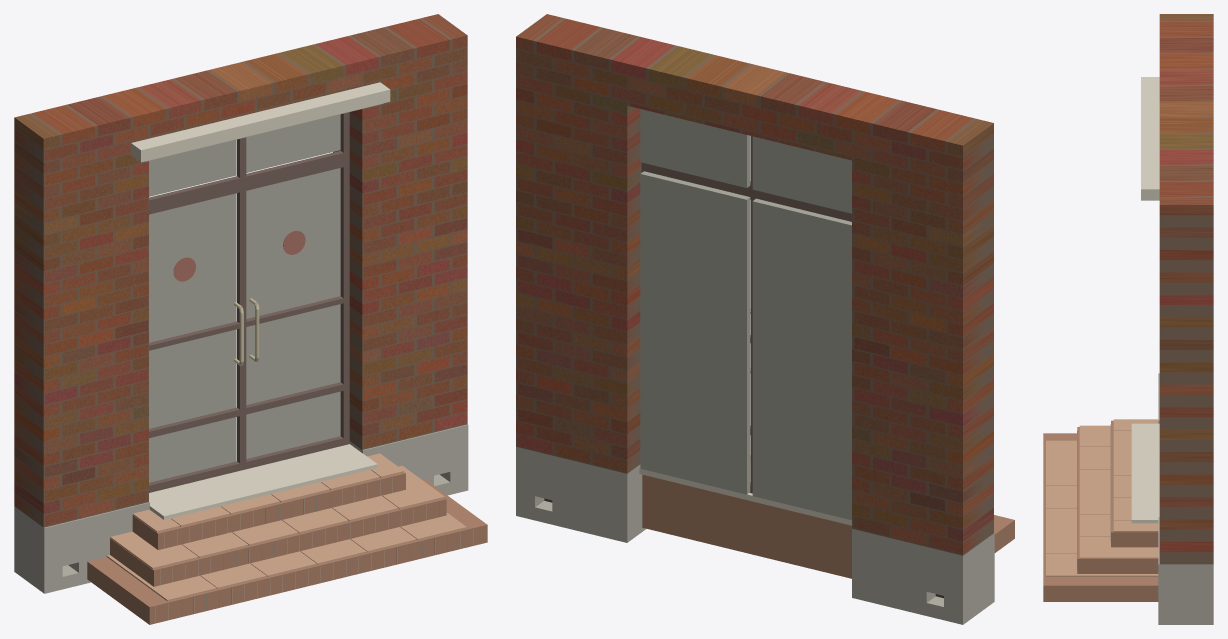
Rendered from railway-hospital-brick-door-and-steps-near.glb.
3 views of the same model, side by side, from view 1: azimuth 30°, elevation 25°; view 2: azimuth 150°, elevation 25°; view 3: azimuth 270°, elevation 25° (orthographic). The views are drawn at different scales.
Visible parts, largest first — view 1: 上海铁道医院虬江路红砖长楼玻璃门与三级踏步; view 2: 上海铁道医院虬江路红砖长楼玻璃门与三级踏步; view 3: 上海铁道医院虬江路红砖长楼玻璃门与三级踏步.
Part boxes in pixels (x1=…): 上海铁道医院虬江路红砖长楼玻璃门与三级踏步: x1=14, y1=14, x2=487, y2=624; 上海铁道医院虬江路红砖长楼玻璃门与三级踏步: x1=516, y1=14, x2=1014, y2=624; 上海铁道医院虬江路红砖长楼玻璃门与三级踏步: x1=1043, y1=14, x2=1213, y2=624.
Bounding box in the file's own units: 2.84 × 2.91 × 1.07.
Materials: 10 (1 with a texture image).
